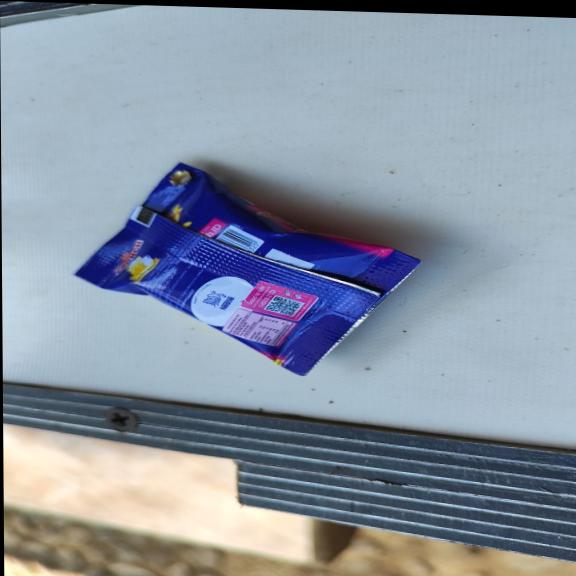Plastik: (71, 156, 424, 378)
